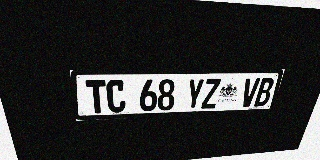6: (140, 79, 158, 111)
8: (157, 79, 176, 111)
B: (254, 78, 275, 106)
C: (106, 80, 126, 113)
T: (85, 80, 107, 114)
V: (239, 78, 261, 107)
Y: (185, 79, 205, 109)
Z: (201, 78, 221, 109)
